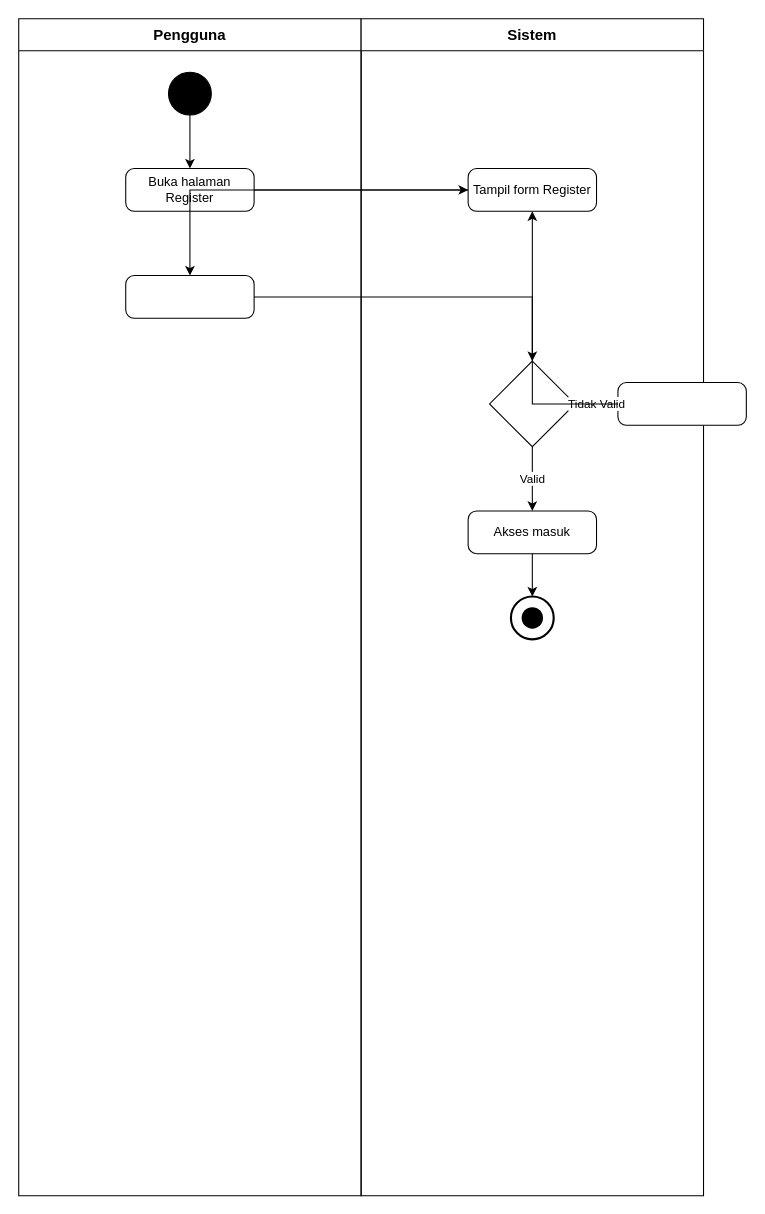
Some shapes in this 765 by 1214 pixel diagram are drawn without their labels. The centre of each missing label's shape, as x and y in pixels:
Isi form dan submit: pixel 189 296
Tampil pesan error: pixel 681 403
Validasi data: pixel 531 403
